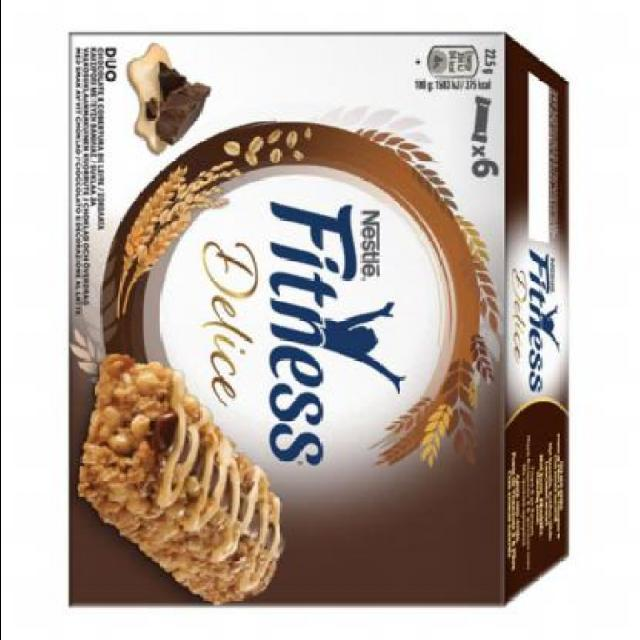Cereal bar: (52, 20, 562, 622)
